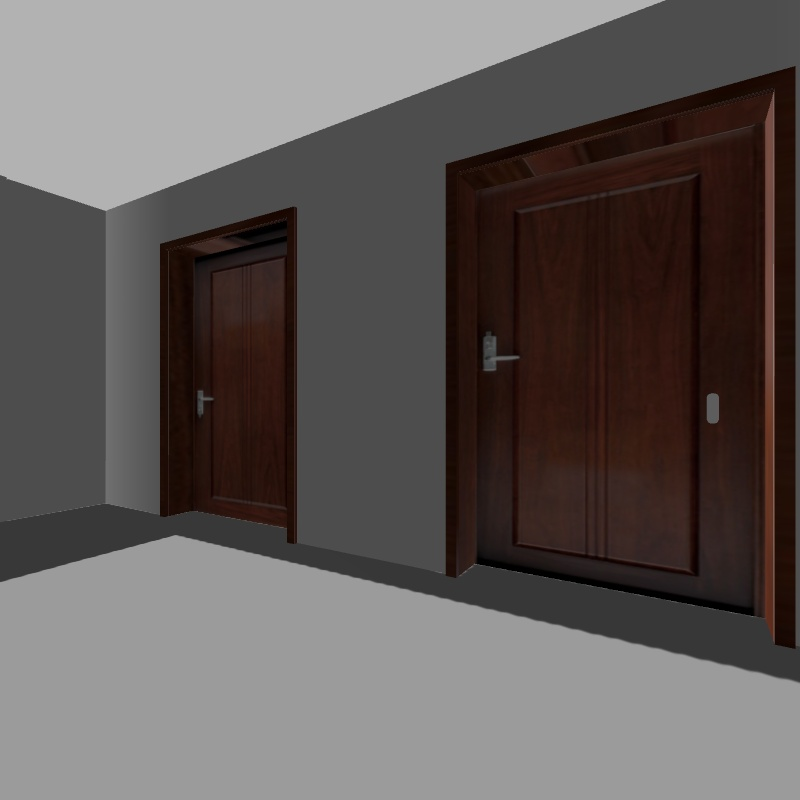handle: (461, 324, 524, 374), (184, 388, 218, 413)
